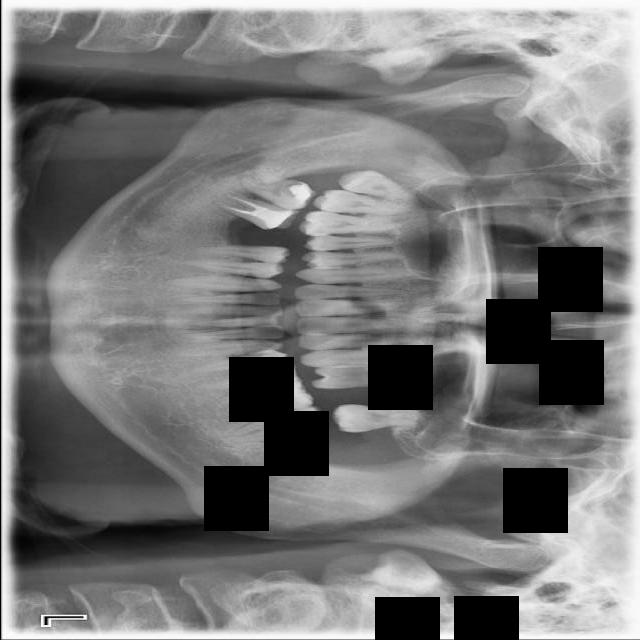3M ESPE Implant: (334, 164, 412, 204)
52: (270, 173, 318, 221), (251, 202, 300, 232)
73: (211, 191, 274, 226), (66, 612, 88, 618)
BioHorizons Implant: (330, 401, 425, 434)
Blue Sky Bio Implant: (225, 403, 328, 445)
Caries: (312, 187, 410, 218)
Implant: (208, 191, 301, 237)
Keystone Dental Implant: (235, 166, 317, 216)
